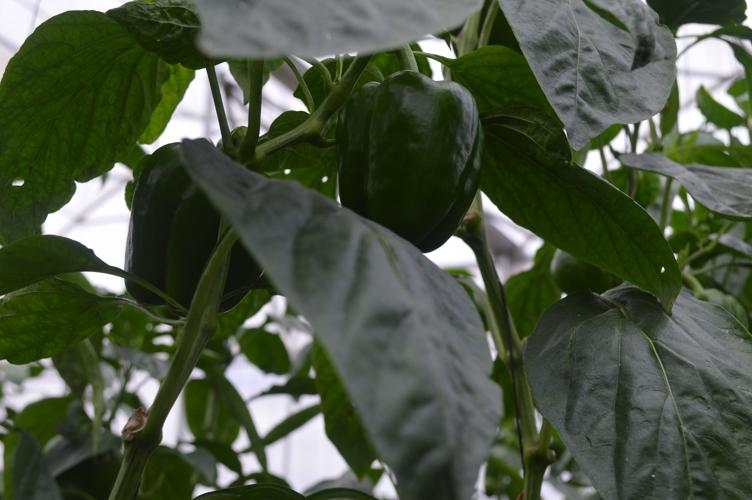BellPepper: (332, 70, 485, 247), (123, 144, 251, 307)
